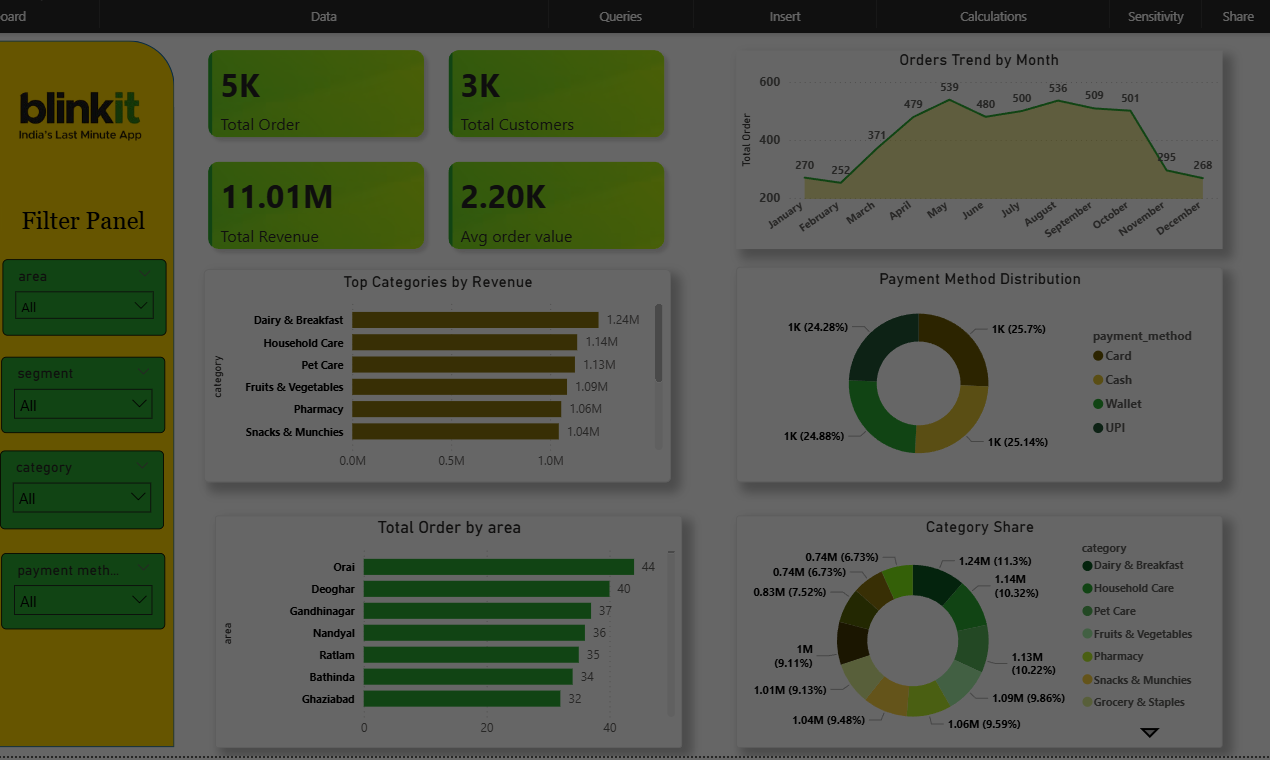

The dashboard page shown, as its layout file describes it:
{"tool":"powerbi","page":{"name":"Page 1","canvas":[1280,720],"ordinal":0},"visuals":[{"type":"shape","box":[7.8,7.8,181.1,703.3],"z":0},{"type":"image","box":[0,0,188.9,165.6],"z":1000},{"type":"textbox","title":"Filter Panel","box":[16.7,173.3,163.3,24.4],"z":2000},{"type":"cardVisual","fields":{"Data":["blinkit_orders.Total Order","blinkit_orders.Total Customers","blinkit_orders.Total Revenue","blinkit_orders.Avg order value"]},"box":[205,0,488.7,232.4],"z":3000},{"type":"lineChart","title":"Orders Trend by Month","fields":{"Category":["blinkit_orders.order_date.Variation.Date Hierarchy.Month"],"Y":["blinkit_orders.Total Order"]},"box":[747.4,17.9,484,197.9],"z":4000},{"type":"barChart","title":"Top Categories by Revenue","fields":{"Y":["blinkit_orders.Total Revenue"],"Category":["blinkit_products.category"]},"box":[217.2,235.1,464.9,212],"z":5000},{"type":"barChart","fields":{"Y":["blinkit_orders.Total Order"],"Category":["blinkit_customers.area"]},"box":[228.9,480.4,464.9,231.3],"z":6000},{"type":"slicer","fields":{"Values":["blinkit_customers.area"]},"box":[17.9,225.3,163.3,76.3],"z":7000},{"type":"slicer","fields":{"Values":["blinkit_customers.customer_segment"]},"box":[16.7,321.8,163.3,76.3],"z":8000},{"type":"slicer","fields":{"Values":["blinkit_products.category"]},"box":[15.5,416,163.3,78.7],"z":9000},{"type":"slicer","fields":{"Values":["blinkit_orders.payment_method"]},"box":[16.7,517.3,163.3,76.3],"z":10000},{"type":"donutChart","title":"Category Share","fields":{"Y":["blinkit_orders.Total Revenue"],"Category":["blinkit_products.category"]},"box":[747.4,480.4,484,231.3],"z":11000},{"type":"donutChart","title":"Payment Method Distribution","fields":{"Y":["blinkit_orders.Total Order"],"Category":["blinkit_orders.payment_method"]},"box":[747.4,232.4,484,214.6],"z":12000}]}

Visuals, with their boxes on the page's 1280x720 design canvas (x1, y1, x2, y2). These are canvas units, not pixel positions in the 1270x760 screenshot, which may show the page scaled, cropped or inside an application window:
shape: {"x1": 8, "y1": 8, "x2": 189, "y2": 711}
image: {"x1": 0, "y1": 0, "x2": 189, "y2": 166}
"Filter Panel" textbox: {"x1": 17, "y1": 173, "x2": 180, "y2": 198}
cardVisual - blinkit_orders.Total Order x blinkit_orders.Total Customers: {"x1": 205, "y1": 0, "x2": 694, "y2": 232}
"Orders Trend by Month" lineChart: {"x1": 747, "y1": 18, "x2": 1231, "y2": 216}
"Top Categories by Revenue" barChart: {"x1": 217, "y1": 235, "x2": 682, "y2": 447}
barChart - blinkit_orders.Total Order x blinkit_customers.area: {"x1": 229, "y1": 480, "x2": 694, "y2": 712}
slicer - blinkit_customers.area: {"x1": 18, "y1": 225, "x2": 181, "y2": 302}
slicer - blinkit_customers.customer_segment: {"x1": 17, "y1": 322, "x2": 180, "y2": 398}
slicer - blinkit_products.category: {"x1": 16, "y1": 416, "x2": 179, "y2": 495}
slicer - blinkit_orders.payment_method: {"x1": 17, "y1": 517, "x2": 180, "y2": 594}
"Category Share" donutChart: {"x1": 747, "y1": 480, "x2": 1231, "y2": 712}
"Payment Method Distribution" donutChart: {"x1": 747, "y1": 232, "x2": 1231, "y2": 447}
